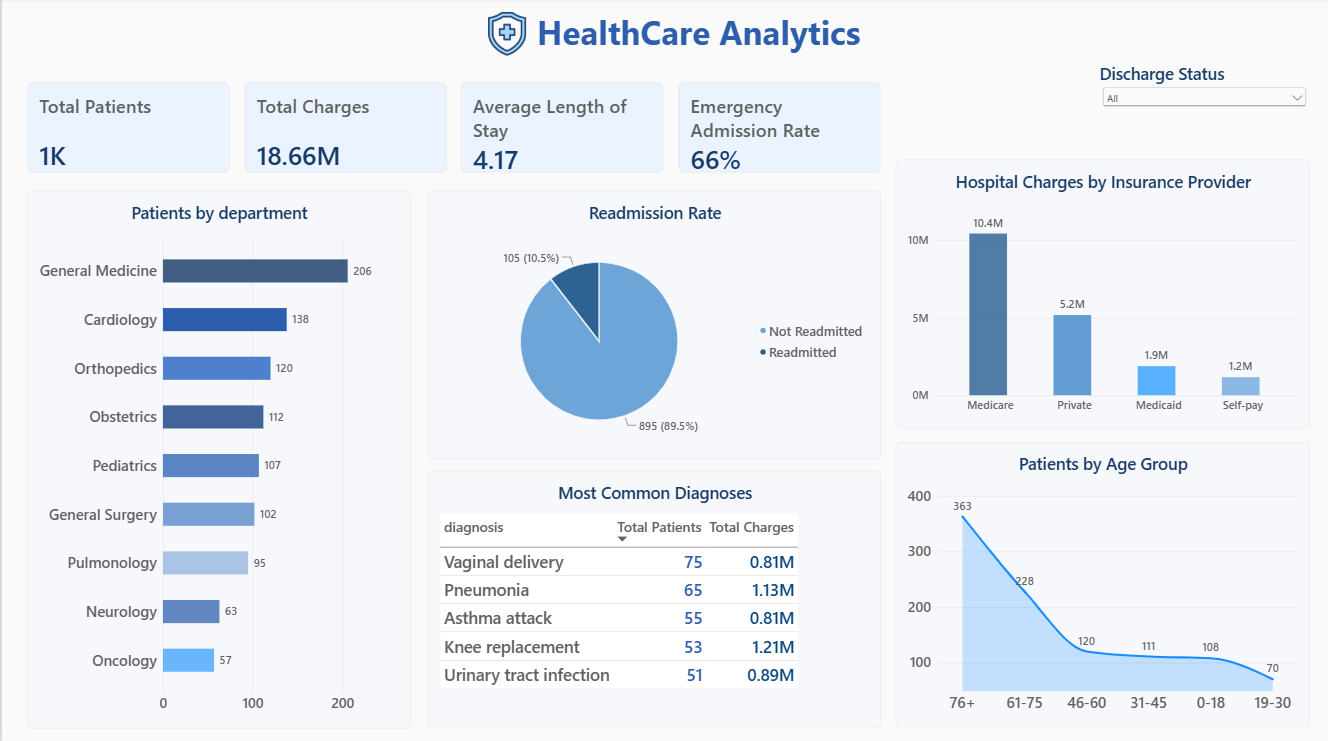

What the dashboard file says about the page in this screenshot:
{"tool":"powerbi","page":{"name":"Page 1","canvas":[1920,1080],"ordinal":0},"visuals":[{"type":"textbox","box":[745.6,18.1,526.6,72.4],"z":0,"group":"g2"},{"type":"cardVisual","fields":{"Data":["Sheet1.Total Charges"]},"box":[350.3,123.1,293.8,132.1],"z":0,"group":"g1"},{"type":"cardVisual","fields":{"Data":["Sheet1.Emergency Admission Rate"]},"box":[978.4,123.1,293.8,132.1],"z":1000,"group":"g1"},{"type":"barChart","title":"Patients by department","fields":{"Category":["Sheet1.department"],"Y":["Sheet1.Total    Patients"]},"box":[36.2,280.5,555.6,778.2],"z":1000},{"type":"cardVisual","fields":{"Data":["Sheet1.Total    Patients"]},"box":[36.2,123.1,293.8,132.1],"z":2000,"group":"g1"},{"type":"tableEx","title":"Most Common Diagnoses","fields":{"Values":["Sheet1.diagnosis","Sheet1.Total    Patients","Sheet1.Total Charges"]},"box":[617.1,685.9,655.1,372.8],"z":2000},{"type":"slicer","title":"Discharge Status","fields":{"Values":["Sheet1.discharge_status"]},"box":[1588.9,94.1,304,83.2],"z":3000},{"type":"cardVisual","fields":{"Data":["Sheet1.Average Length of Stay"]},"box":[664.3,123.1,293.8,132.1],"z":3000,"group":"g1"},{"type":"pieChart","title":"Readmission Rate","fields":{"Category":["Sheet1.Readmission Status"],"Y":["Sheet1.Total    Patients"]},"box":[617.1,280.5,655.1,389.1],"z":4000},{"type":"lineChart","title":"Patients by Age Group","fields":{"Category":["Sheet1.Age Group"],"Y":["Sheet1.Total    Patients"]},"box":[1293.9,644.2,599,414.4],"z":5000},{"type":"group","id":"g1","title":"Group 1","box":[36.2,123.1,1236,132.1],"z":6000},{"type":"columnChart","title":"Hospital Charges by Insurance Provider","fields":{"Category":["Sheet1.insurance"],"Y":["Sum(Sheet1.total_charge)"]},"box":[1293.9,235.3,599,389.1],"z":7000},{"type":"image","box":[687.7,21.7,86.9,63.3],"z":7001,"group":"g2"},{"type":"group","id":"g2","title":"Group 2","box":[687.7,18.1,584.5,72.4],"z":7002}]}

Visuals, with their boxes in screenshot pixels (x1, y1, x2, y2), scaled from the page's 1920x1080 canvas onto the 1328x741 screenshot:
textbox: [left=516, top=12, right=880, bottom=62]
cardVisual - Sheet1.Total Charges: [left=242, top=84, right=446, bottom=175]
cardVisual - Sheet1.Emergency Admission Rate: [left=677, top=84, right=880, bottom=175]
"Patients by department" barChart: [left=25, top=192, right=409, bottom=726]
cardVisual - Sheet1.Total    Patients: [left=25, top=84, right=228, bottom=175]
"Most Common Diagnoses" tableEx: [left=427, top=471, right=880, bottom=726]
"Discharge Status" slicer: [left=1099, top=65, right=1309, bottom=122]
cardVisual - Sheet1.Average Length of Stay: [left=459, top=84, right=663, bottom=175]
"Readmission Rate" pieChart: [left=427, top=192, right=880, bottom=459]
"Patients by Age Group" lineChart: [left=895, top=442, right=1309, bottom=726]
"Group 1" group: [left=25, top=84, right=880, bottom=175]
"Hospital Charges by Insurance Provider" columnChart: [left=895, top=161, right=1309, bottom=428]
image: [left=476, top=15, right=536, bottom=58]
"Group 2" group: [left=476, top=12, right=880, bottom=62]
